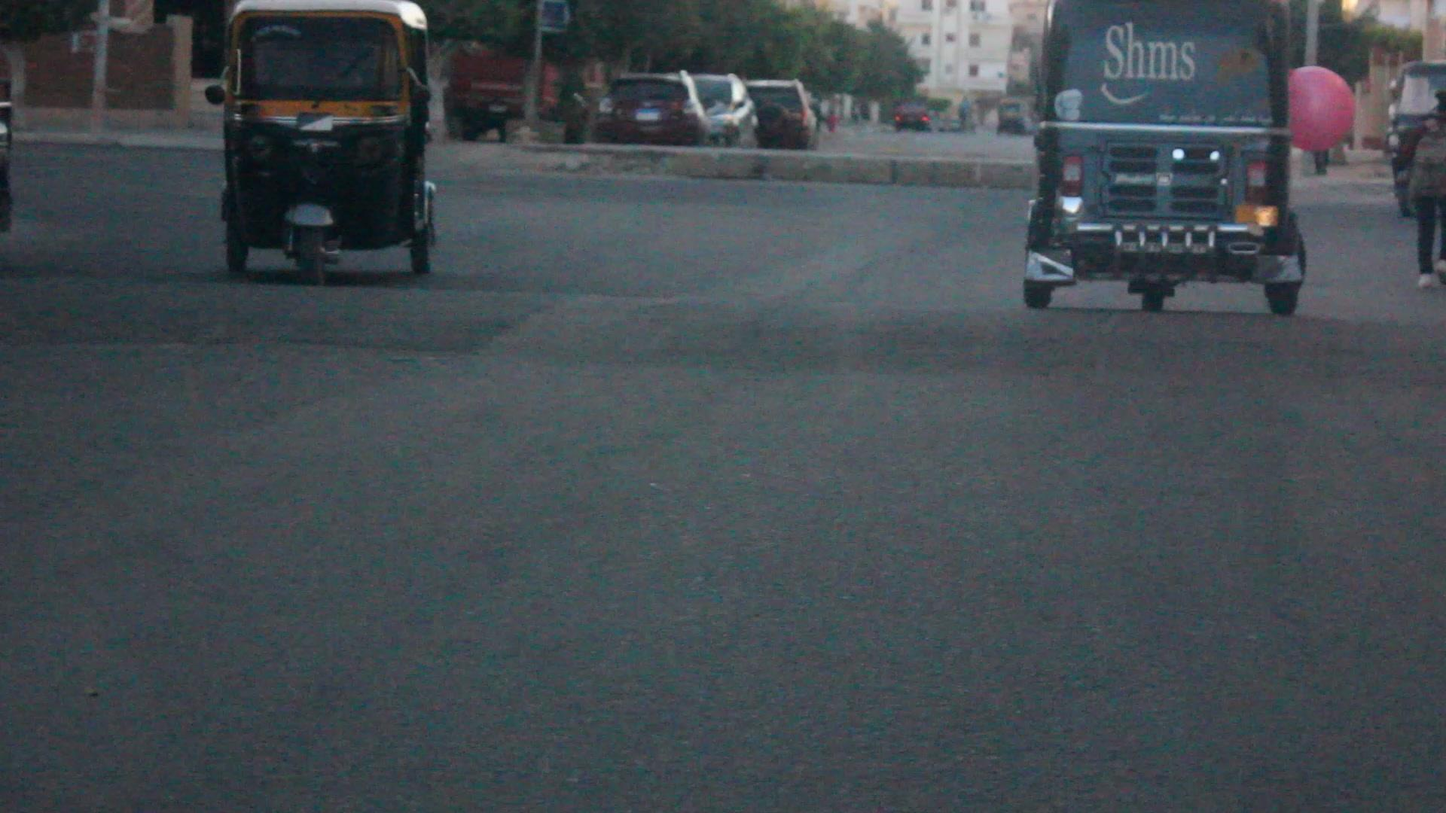Bump: (11, 269, 1446, 399)
